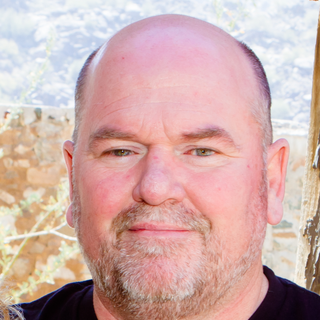eye: (179, 138, 230, 163), (94, 141, 144, 162)
